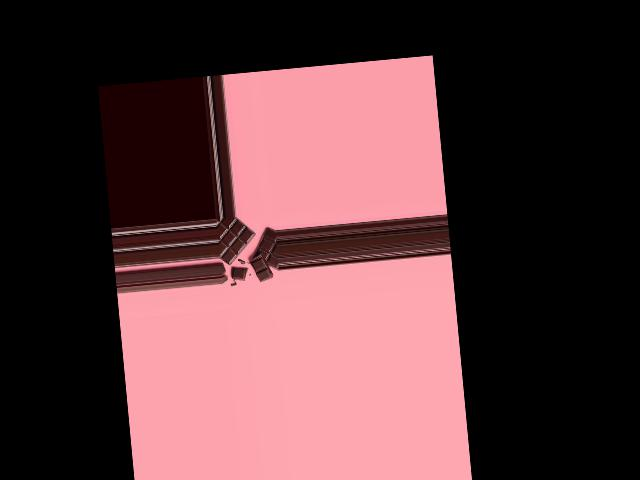chocolate: (216, 213, 276, 281)
